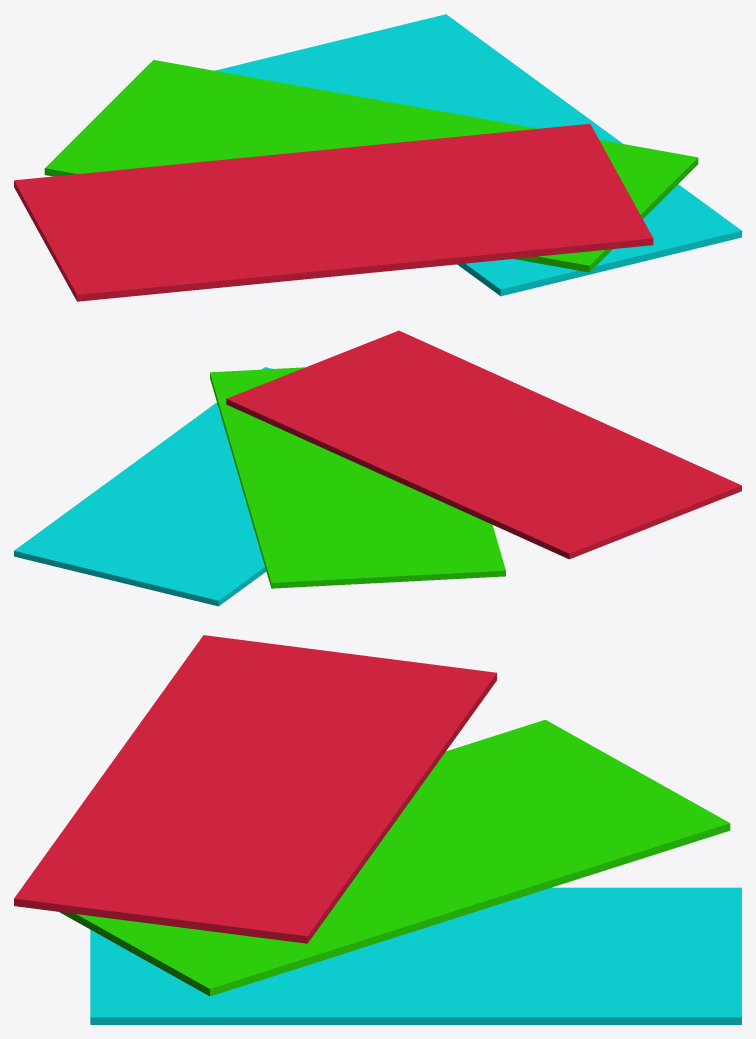
File: billetes.fbx
3 renders of one model, top to bottom at view 1: azimuth 30°, elevation 25°; view 2: azimuth 150°, elevation 25°; view 3: azimuth 270°, elevation 25°, orthographic. The views are drawn at different scales.
Visible parts, largest first — view 1: Cube.002; view 2: Cube.002; view 3: Cube.002.
Part boxes in pixels (box(x1,y1,x2,y2)): Cube.002: box(14, 14, 741, 301); Cube.002: box(14, 330, 741, 606); Cube.002: box(14, 635, 741, 1024).
Bounding box in the file's own units: 2.23 × 2.44 × 0.2035.
